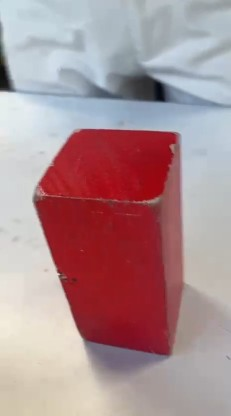red: (74, 117, 176, 355)
